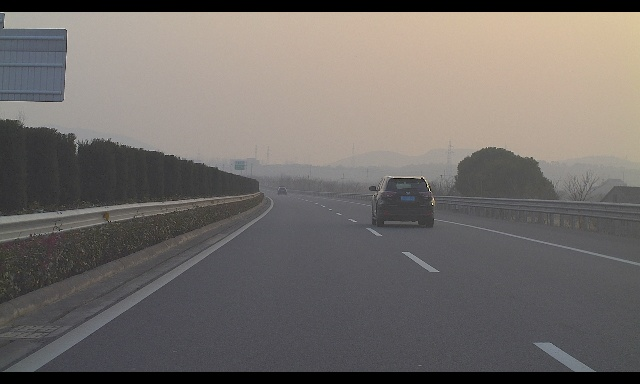car: (369, 175, 435, 227), (277, 187, 287, 195)
